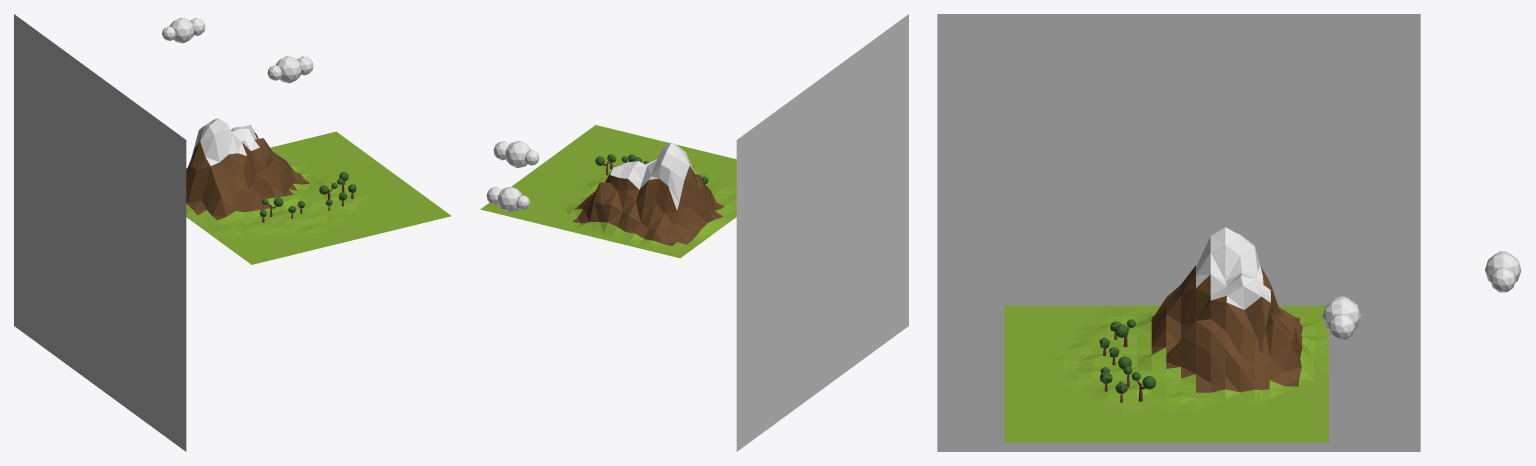
The model's file is lowpoly-landscape.dae.
3 views of the same model, side by side, from view 1: azimuth 30°, elevation 25°; view 2: azimuth 150°, elevation 25°; view 3: azimuth 270°, elevation 25° (orthographic). The views are drawn at different scales.
Visible parts, largest first — view 1: Plane_001, Plane, Icosphere_010, Icosphere_002; view 2: Plane_001, Plane, Icosphere_010, Icosphere_002; view 3: Plane_001, Plane, Icosphere_010, Icosphere_002.
Boxes of the visible parts, left/top/right/bottom form: Plane_001: left=14, top=14, right=186, bottom=451; Plane: left=186, top=118, right=451, bottom=264; Icosphere_010: left=267, top=56, right=313, bottom=83; Icosphere_002: left=162, top=17, right=205, bottom=43; Plane_001: left=736, top=14, right=908, bottom=451; Plane: left=480, top=125, right=736, bottom=258; Icosphere_010: left=493, top=141, right=539, bottom=167; Icosphere_002: left=486, top=186, right=529, bottom=212; Plane_001: left=937, top=14, right=1420, bottom=451; Plane: left=1004, top=227, right=1328, bottom=442; Icosphere_010: left=1322, top=296, right=1360, bottom=339; Icosphere_002: left=1485, top=251, right=1521, bottom=292.
Bounding box in the file's own units: 25.55 × 31.81 × 26.32.
